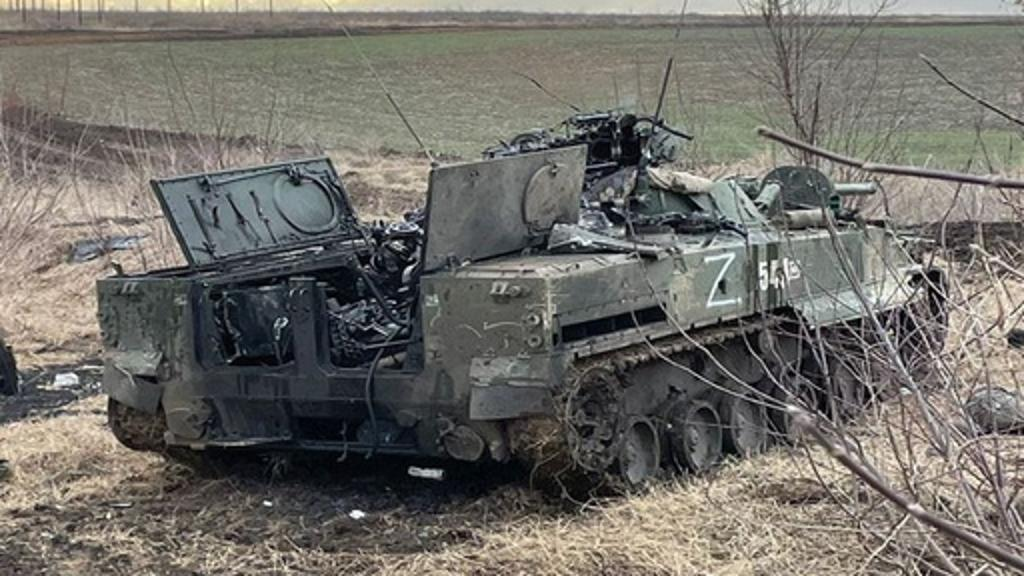APC-IFV: (88, 98, 950, 506)
